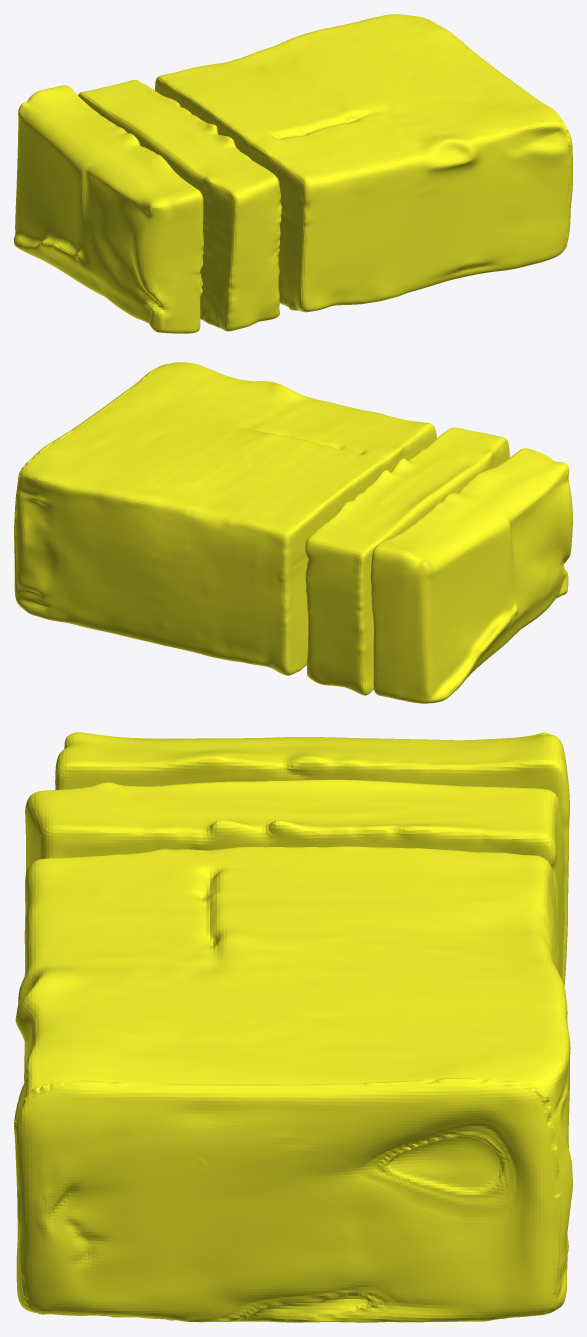
The model's file is butter.glb.
The picture shows the model from 3 angles, top to bottom: view 1: azimuth 30°, elevation 25°; view 2: azimuth 150°, elevation 25°; view 3: azimuth 270°, elevation 25°; orthographic projection. The views are drawn at different scales.
Visible parts, largest first — view 1: tmpf2_i_ryi.ply; view 2: tmpf2_i_ryi.ply; view 3: tmpf2_i_ryi.ply.
Boxes of the visible parts, x1,y1,x2,y2 form: tmpf2_i_ryi.ply: [14, 14, 572, 333]; tmpf2_i_ryi.ply: [14, 362, 572, 703]; tmpf2_i_ryi.ply: [14, 732, 572, 1322].
Size of the model in its own units: 1.96 by 0.6853 by 1.26.
